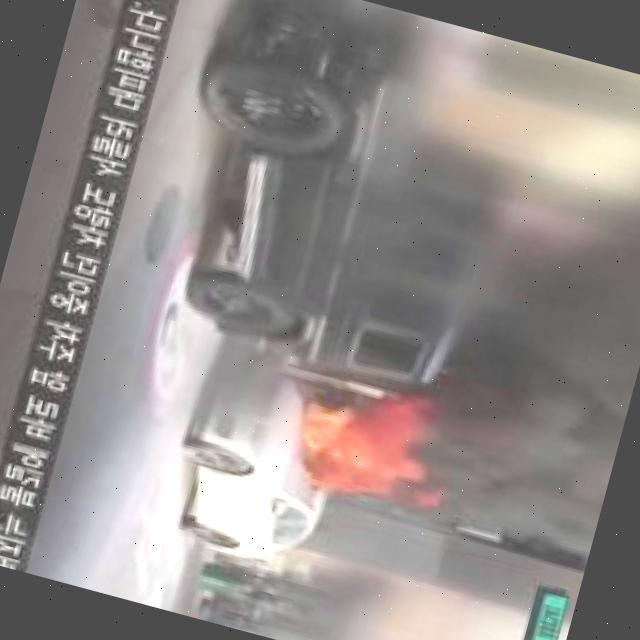fire: (289, 393, 411, 501)
